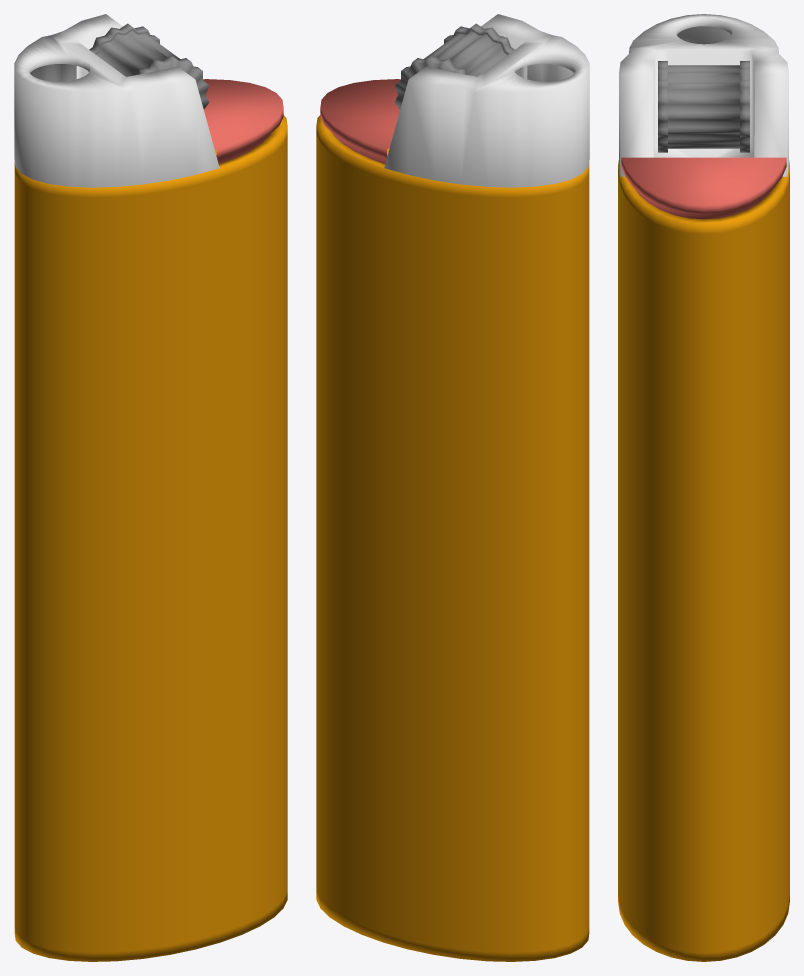
File: LIGHTER.dae
3 renders of one model, left to right at view 1: azimuth 30°, elevation 25°; view 2: azimuth 150°, elevation 25°; view 3: azimuth 270°, elevation 25°, orthographic. The views are drawn at different scales.
Visible parts, largest first — view 1: Cube, Tube, Tube_002, Tube_001; view 2: Cube, Tube, Tube_002, Tube_001; view 3: Cube, Tube, Tube_002, Tube_001.
Part boxes in pixels (box(x1,y1,x2,y2)): Cube: box(14, 115, 287, 961); Tube: box(14, 14, 219, 187); Tube_002: box(203, 79, 283, 163); Tube_001: box(89, 23, 209, 109); Cube: box(316, 115, 589, 961); Tube: box(384, 14, 589, 187); Tube_002: box(320, 79, 400, 163); Tube_001: box(394, 23, 514, 109); Cube: box(618, 160, 789, 961); Tube: box(619, 14, 788, 176); Tube_002: box(621, 157, 786, 219); Tube_001: box(658, 61, 749, 152).
Bounding box in the file's own units: 2.83 × 1.71 × 9.16.
